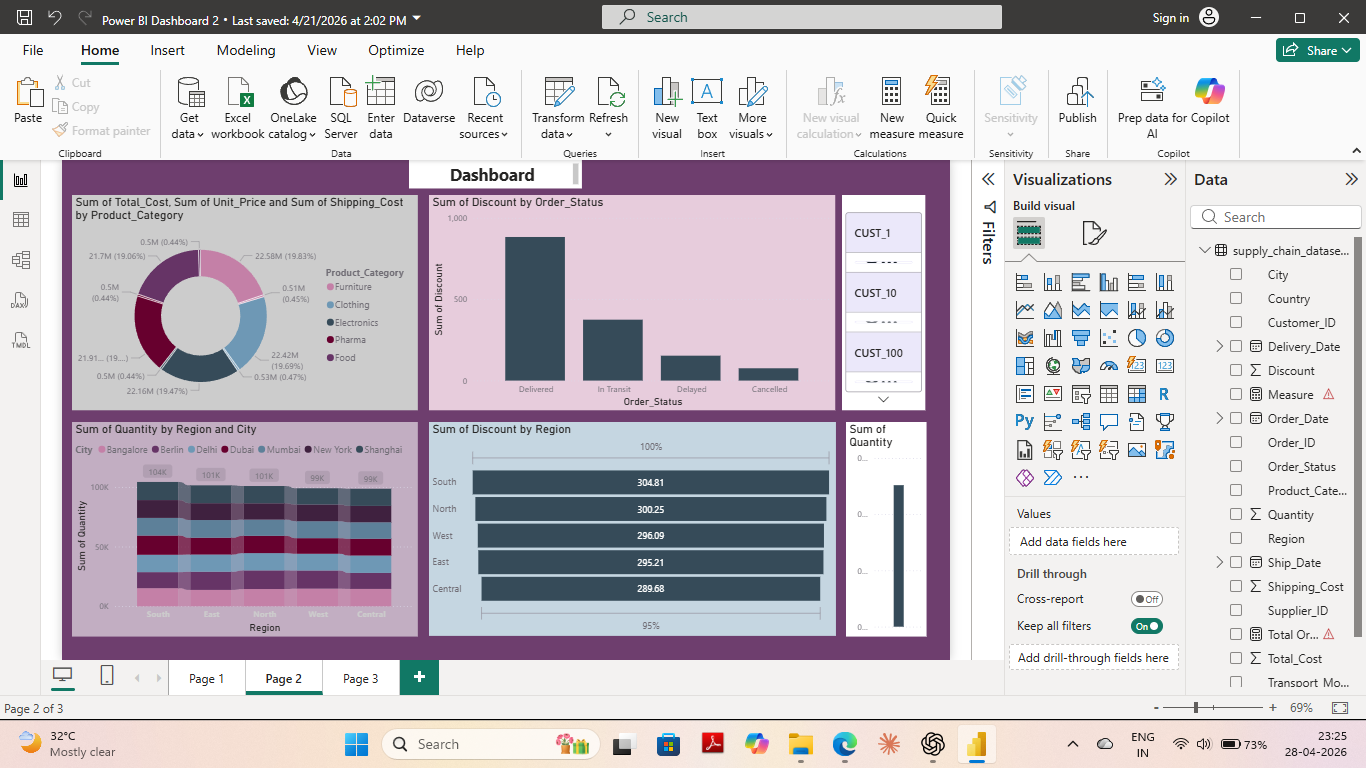

This screenshot's page, from the dashboard's own definition file:
{"tool":"powerbi","page":{"name":"Page 2","canvas":[1280,720],"ordinal":1},"visuals":[{"type":"donutChart","fields":{"Category":["supply_chain_dataset BI  (1).Product_Category"],"Y":["Sum(supply_chain_dataset BI  (1).Total_Cost)","Sum(supply_chain_dataset BI  (1).Unit_Price)","Sum(supply_chain_dataset BI  (1).Shipping_Cost)"]},"box":[14.6,49.8,497.6,310.2],"z":1000},{"type":"clusteredColumnChart","fields":{"Y":["Sum(supply_chain_dataset BI  (1).Discount)"],"Category":["supply_chain_dataset BI  (1).Order_Status"]},"box":[528.3,49.8,585.4,310.2],"z":2000},{"type":"columnChart","fields":{"Category":["supply_chain_dataset BI  (1).Region"],"Series":["supply_chain_dataset BI  (1).City"],"Y":["Sum(supply_chain_dataset BI  (1).Quantity)"]},"box":[14.6,377.6,497.6,308.8],"z":3000},{"type":"clusteredColumnChart","fields":{"Y":["Sum(supply_chain_dataset BI  (1).Quantity)"]},"box":[1128.3,377.6,115.6,308.8],"z":5000},{"type":"cardVisual","fields":{"Rows":["supply_chain_dataset BI  (1).Customer_ID"],"Data":["Min(supply_chain_dataset BI  (1).Order_ID)"]},"box":[1123.9,49.8,120,310.2],"z":6000},{"type":"textbox","box":[499,0,248.8,41],"z":7000},{"type":"funnel","fields":{"Y":["Sum(supply_chain_dataset BI  (1).Discount)"],"Category":["supply_chain_dataset BI  (1).Region"]},"box":[528.5,377.3,586.1,308.2],"z":7001}]}

Visuals, with their boxes on the page's 1280x720 design canvas (x1, y1, x2, y2). These are canvas units, not pixel positions in the 1366x768 screenshot, which may show the page scaled, cropped or inside an application window:
donutChart - supply_chain_dataset BI  (1).Product_Category x Sum(supply_chain_dataset BI  (1).Total_Cost): 15 50 512 360
clusteredColumnChart - Sum(supply_chain_dataset BI  (1).Discount) x supply_chain_dataset BI  (1).Order_Status: 528 50 1114 360
columnChart - supply_chain_dataset BI  (1).Region x supply_chain_dataset BI  (1).City: 15 378 512 686
clusteredColumnChart - Sum(supply_chain_dataset BI  (1).Quantity): 1128 378 1244 686
cardVisual - supply_chain_dataset BI  (1).Customer_ID x Min(supply_chain_dataset BI  (1).Order_ID): 1124 50 1244 360
textbox: 499 0 748 41
funnel - Sum(supply_chain_dataset BI  (1).Discount) x supply_chain_dataset BI  (1).Region: 528 377 1115 686
